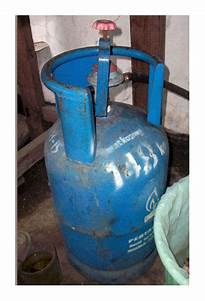blue_gas: (40, 46, 169, 287)
